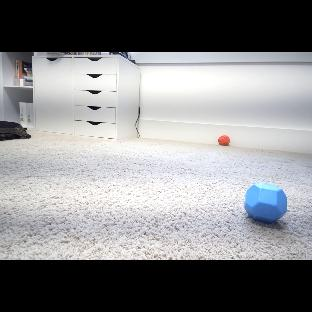V5_BLUE: (243, 183, 288, 223)
V5_RED: (217, 135, 231, 147)
